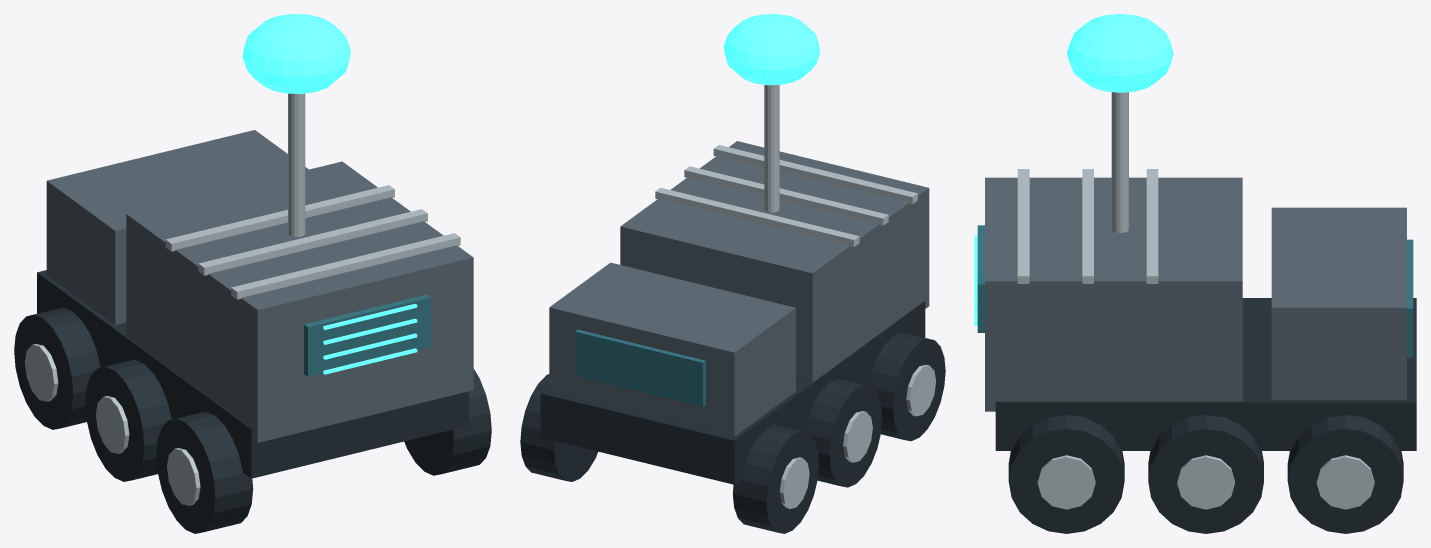
The model's file is mobile-relay.glb.
3 views of the same model, side by side, from view 1: azimuth 30°, elevation 25°; view 2: azimuth 150°, elevation 25°; view 3: azimuth 270°, elevation 25° (orthographic). The views are drawn at different scales.
Visible parts, largest first — view 1: armored cargo container, cab, truck chassis, tire, relay radome, tire.001, tire.002, glowing status panel.001, tire.003, container reinforcement, container reinforcement.001, container reinforcement.002 (+4 smaller); view 2: armored cargo container, cab, truck chassis, glowing status panel, tire.002, relay radome, tire.001, tire, tire.005, container reinforcement.002, container reinforcement.001, container reinforcement (+4 smaller); view 3: armored cargo container, cab, truck chassis, tire.005, tire.003, tire.004, relay radome, relay mast, wheel hub.004, wheel hub.005, wheel hub.003, container reinforcement (+4 smaller).
Boxes of the visible parts, <box> form: armored cargo container: <box>126,161,473,442</box>; cab: <box>46,130,308,325</box>; truck chassis: <box>37,270,468,478</box>; tire: <box>156,411,253,533</box>; relay radome: <box>242,14,350,93</box>; tire.001: <box>85,359,171,481</box>; tire.002: <box>14,307,100,429</box>; glowing status panel.001: <box>304,294,430,376</box>; tire.003: <box>404,369,491,475</box>; container reinforcement: <box>231,233,460,299</box>; container reinforcement.001: <box>198,209,427,275</box>; container reinforcement.002: <box>165,185,394,251</box>; armored cargo container: <box>620,141,929,382</box>; cab: <box>549,262,795,436</box>; truck chassis: <box>540,301,925,484</box>; glowing status panel: <box>575,329,705,406</box>; tire.002: <box>732,425,818,533</box>; relay radome: <box>723,14,819,85</box>; tire.001: <box>805,379,882,487</box>; tire: <box>868,332,945,441</box>; tire.005: <box>520,374,597,481</box>; container reinforcement.002: <box>655,187,859,246</box>; container reinforcement.001: <box>684,166,888,225</box>; container reinforcement: <box>713,145,917,204</box>; armored cargo container: <box>985,177,1242,411</box>; cab: <box>1271,207,1406,399</box>; truck chassis: <box>995,298,1416,450</box>; tire.005: <box>1287,415,1403,533</box>; tire.003: <box>1008,415,1124,533</box>; tire.004: <box>1148,415,1263,533</box>; relay radome: <box>1066,14,1173,92</box>; relay mast: <box>1111,92,1128,232</box>; wheel hub.004: <box>1177,455,1234,509</box>; wheel hub.005: <box>1316,455,1374,509</box>; wheel hub.003: <box>1037,455,1095,509</box>; container reinforcement: <box>1017,169,1029,283</box>.
Bounding box in the file's own units: 1.5 × 2.3 × 2.06.
